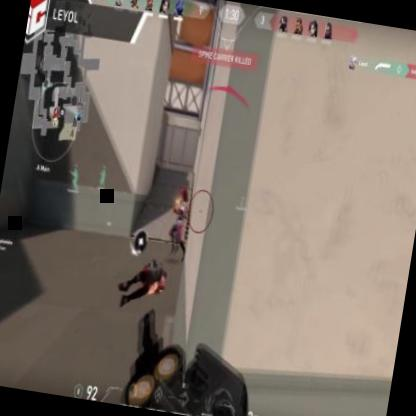enemy: (163, 187, 196, 265)
enemy_head: (178, 190, 184, 202)
